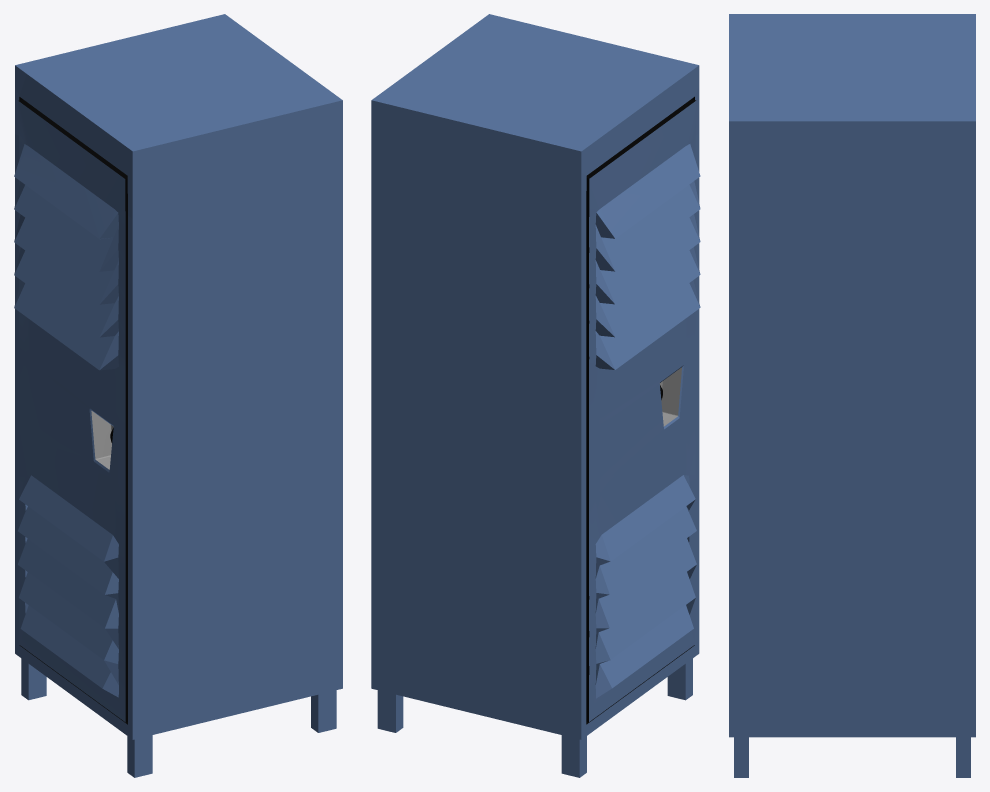
File: locker animacao arrrumada.fbx
The picture shows the model from 3 angles, left to right: view 1: azimuth 30°, elevation 25°; view 2: azimuth 150°, elevation 25°; view 3: azimuth 270°, elevation 25°; orthographic projection. The views are drawn at different scales.
Parts seen in each view (by area): view 1: Cube, Cube.001; view 2: Cube, Cube.001; view 3: Cube.
Part boxes in pixels (x1,y1,x2,y2): Cube: [15, 14, 342, 777]; Cube.001: [14, 99, 127, 722]; Cube: [371, 14, 699, 777]; Cube.001: [586, 99, 700, 721]; Cube: [729, 14, 975, 777].
Size of the model in its own units: 38.06 by 101 by 34.16.
